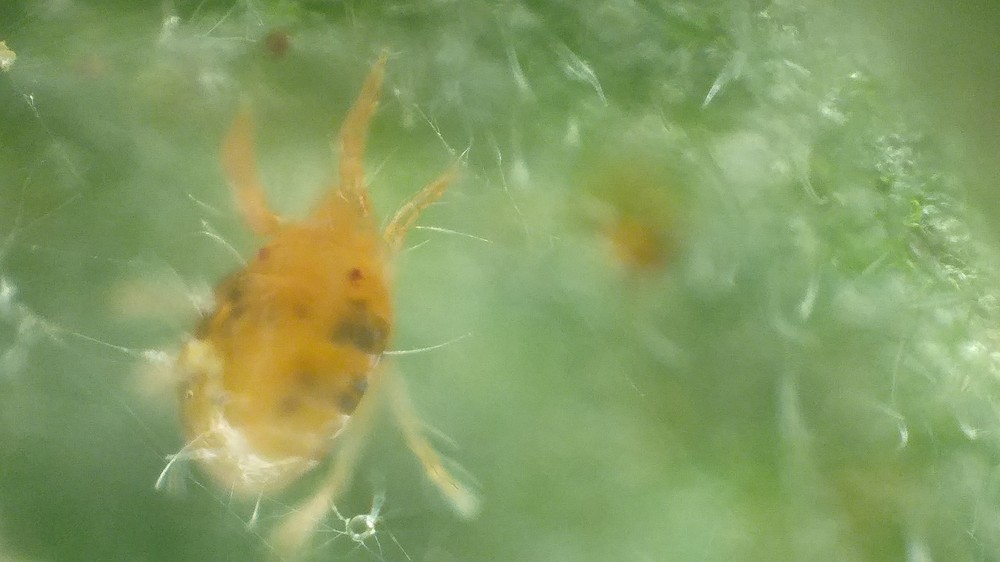Aracnido Rojo: (156, 66, 509, 549)
